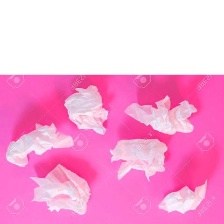tissue: (119, 89, 203, 140), (25, 159, 96, 219), (2, 117, 79, 172), (105, 132, 173, 186), (61, 82, 112, 138), (154, 174, 212, 218)
